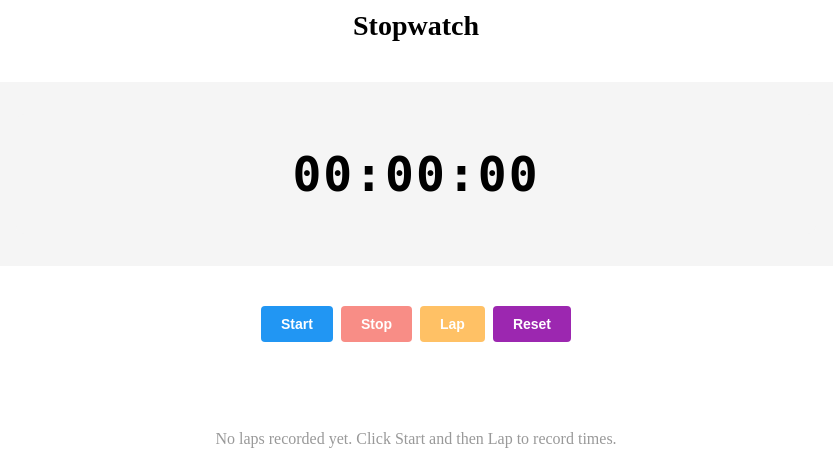
Scenario: Stopwatch UI - ARIA Labels Verification (T099) › Button ARIA labels › should have descriptive aria-label on Start button when disabled
Note: Start the stopwatch to disable Start button
Step 1. Click the button with test id "button-start" → (297, 324), box [261,306,333,342]
Wait 100 ms
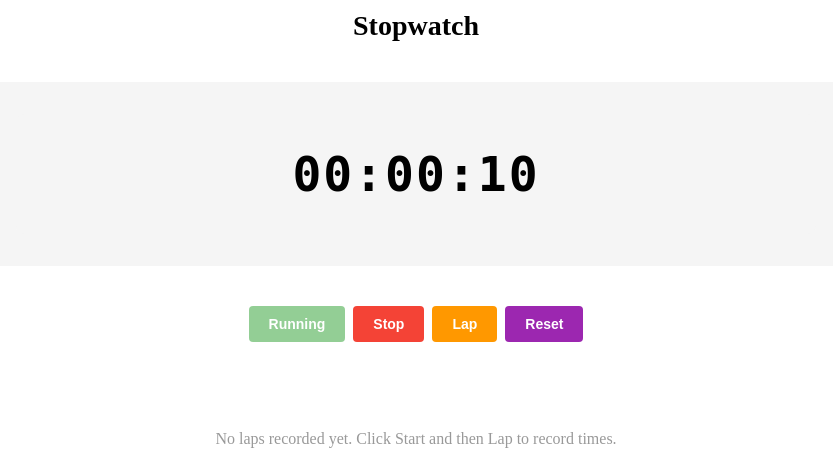
Result: the button with test id "button-start" is disabled at [248,306,345,342]
